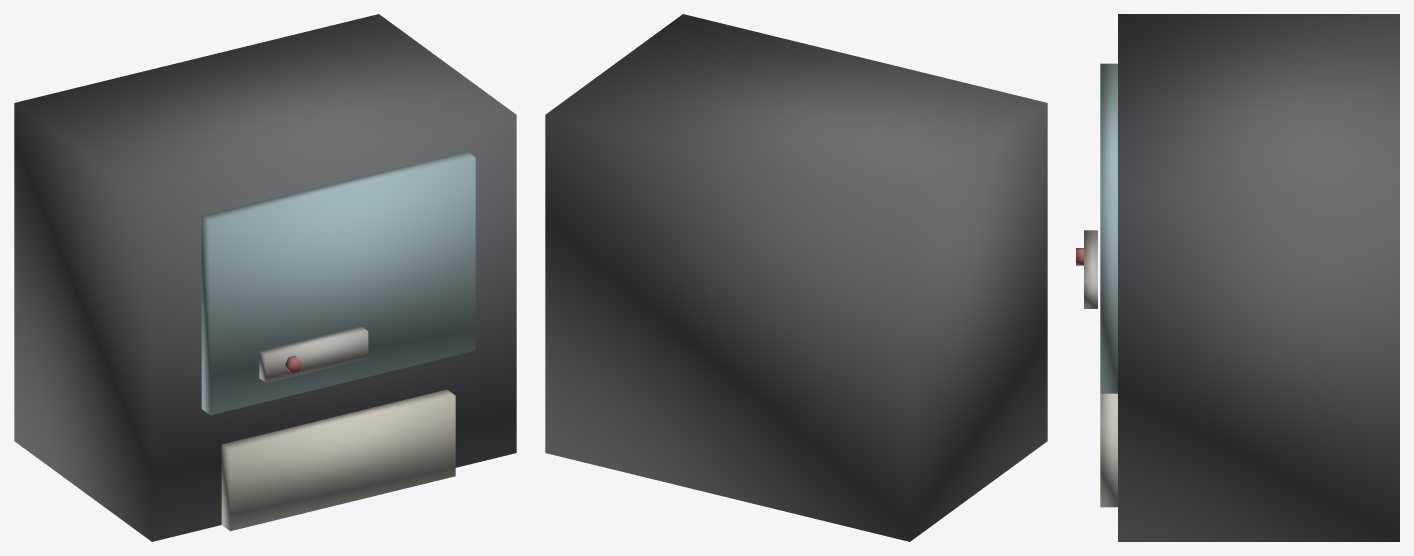
Rendered from microfilm_reader__tall.glb.
3 views of the same model, side by side, from view 1: azimuth 30°, elevation 25°; view 2: azimuth 150°, elevation 25°; view 3: azimuth 270°, elevation 25° (orthographic). The views are drawn at different scales.
Parts seen in each view (by area): view 1: world; view 2: world; view 3: world.
Part boxes in pixels (x1,y1,x2,y2): world: (14, 14, 516, 541); world: (545, 14, 1047, 541); world: (1076, 14, 1399, 541).
Size of the model in its own units: 0.55 by 0.4872 by 0.4135.
